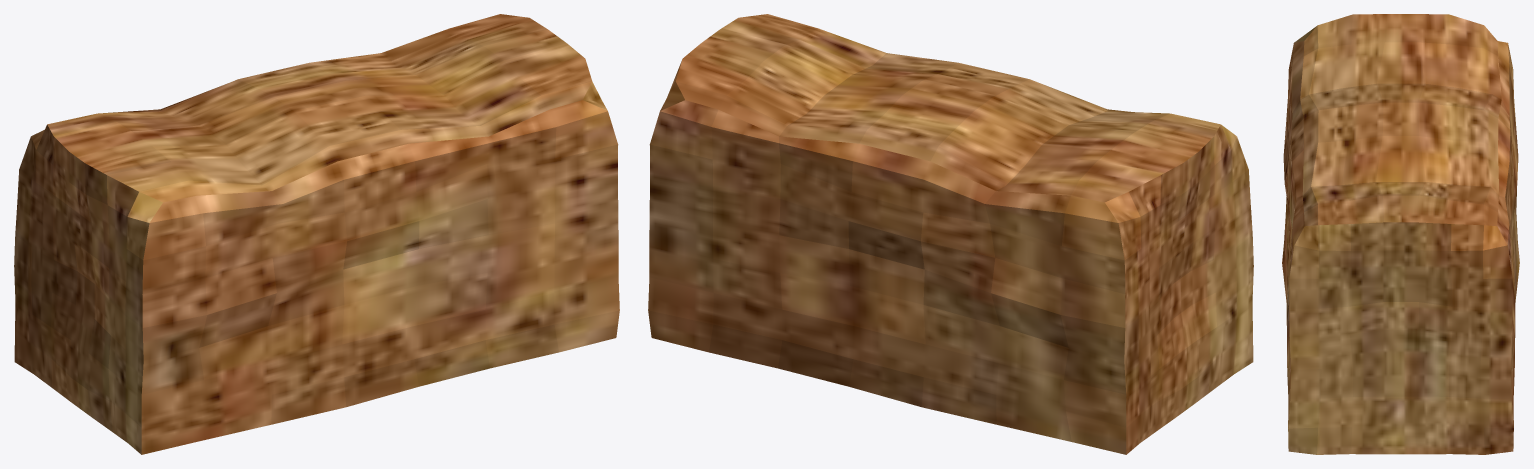
Rendered from bread.fbx.
3 views of the same model, side by side, from view 1: azimuth 30°, elevation 25°; view 2: azimuth 150°, elevation 25°; view 3: azimuth 270°, elevation 25° (orthographic). The views are drawn at different scales.
Parts seen in each view (by area): view 1: Cube; view 2: Cube; view 3: Cube.
Part boxes in pixels (x1,y1,x2,y2): Cube: [14, 14, 619, 454]; Cube: [648, 14, 1253, 454]; Cube: [1282, 14, 1519, 454].
Bounding box in the file's own units: 163 × 84.23 × 77.44.
1 material, 1 textured.
